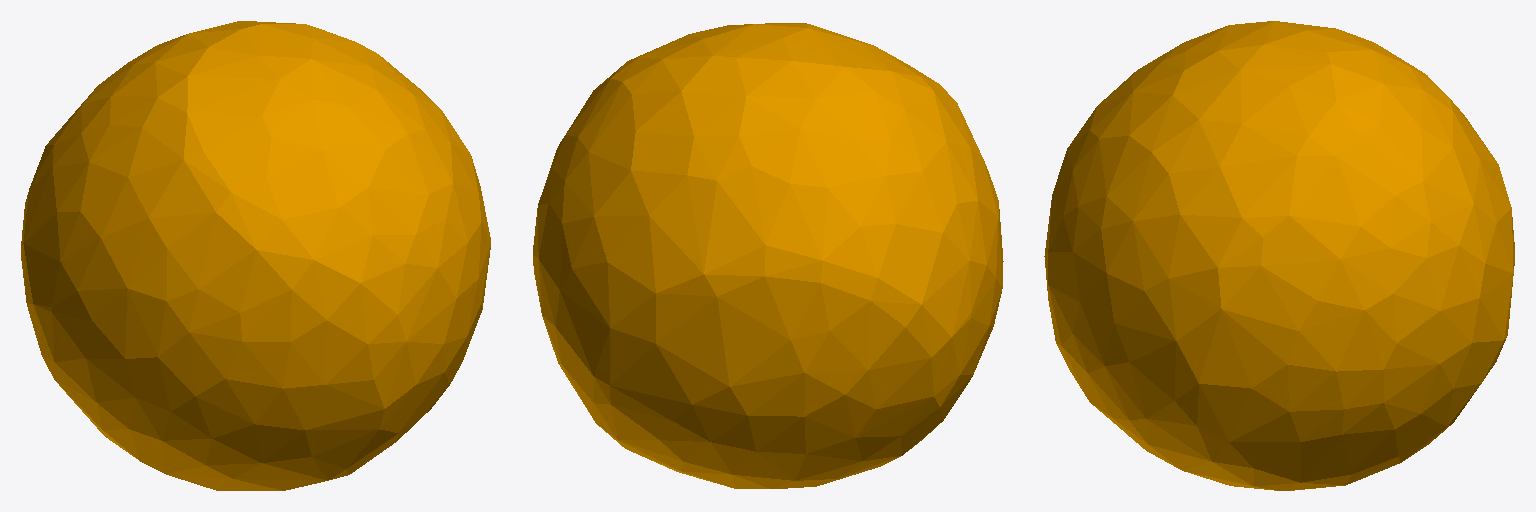
URDF robot description (055_baseball):
<?xml version="1.0" encoding="UTF-8"?>
<robot name="055_baseball">
	<link name="base">
		<collision>
			<geometry>
				<mesh filename="..\vhacd\055_baseball_vhacd.obj" scale="1.0 1.0 1.0"/>
			</geometry>
			<origin xyz="0 0 0"/>
			<contact_coefficients mu="0.24" />
		</collision>
		<visual>
			<geometry>
				<mesh filename="..\vhacd\055_baseball_vhacd.obj" scale="1.0 1.0 1.0"/>
			</geometry>
			<origin xyz="0 0 0"/>
		</visual>
		<inertial>
			<mass value="0"/>
			<inertia ixx="0.0" ixy="-0.0" ixz="-0.0" iyy="0.0" iyz="-0.0" izz="0.0" />
			<origin xyz="-0.009947985009865377 -0.048116235566347344 0.03592664754683415"/>
		</inertial>
	</link>
</robot>

--- What the picture shows (computed from the rendered views, not written in the file) ---
3 views of the same robot in one strip: view 1: azimuth 30°, elevation 25°; view 2: azimuth 150°, elevation 25°; view 3: azimuth 270°, elevation 25° (orthographic).
Model 055_baseball with 1 links and 0 joints (none), rooted at base, posed every joint at zero.
Links seen in each view (by area): view 1: base; view 2: base; view 3: base.
Boxes of the visible links, x1=… form: base: x1=21, y1=21, x2=490, y2=490; base: x1=533, y1=23, x2=1003, y2=488; base: x1=1044, y1=21, x2=1514, y2=490.
Bounding box of the posed robot: 0.0734 × 0.074 × 0.0728 m (x, y, z).
1 mesh visuals loaded from 1 distinct referenced files (1 OBJ).